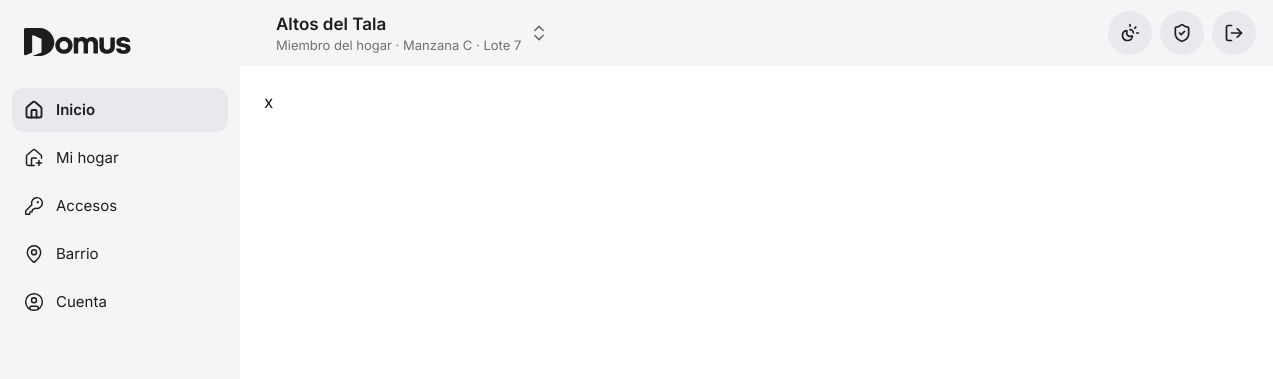
Test: AppShell › closes the context list with Escape
The image size is (1273, 379).
Click the button named "Cambiar de contexto": (331, 24) x1=264 y1=8 x2=1100 y2=58
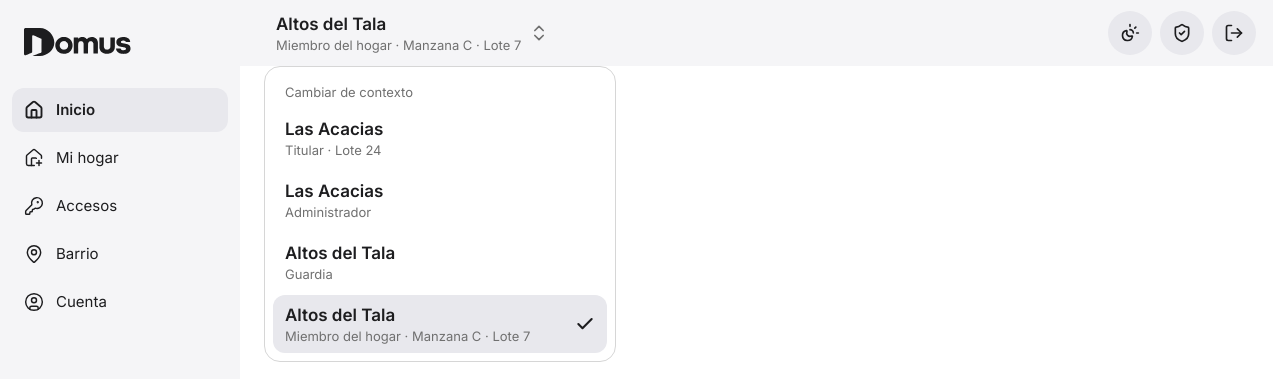
Result: the element "Cambiar de contexto" is shown at x1=264 y1=66 x2=616 y2=362
Press Escape
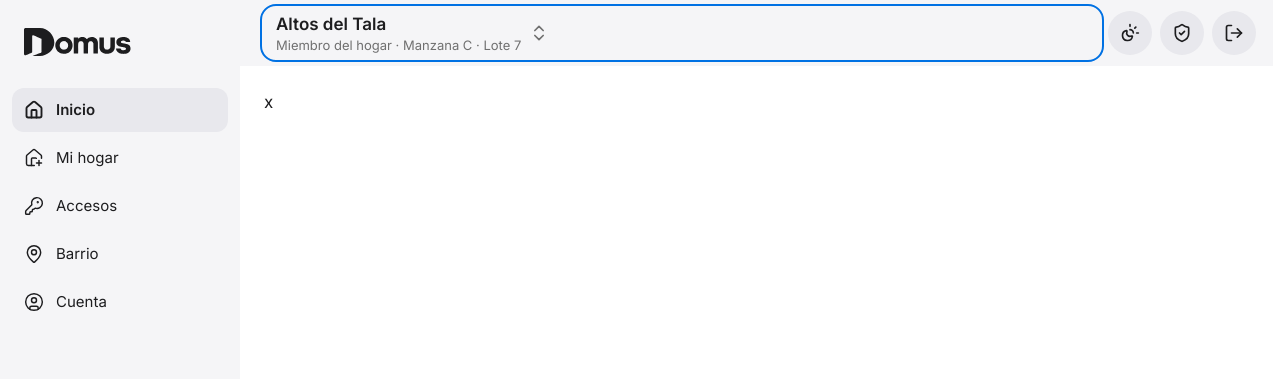
Result: the text "Cambiar de contexto" is gone
